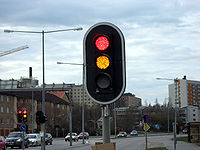signal: (81, 20, 126, 105)
